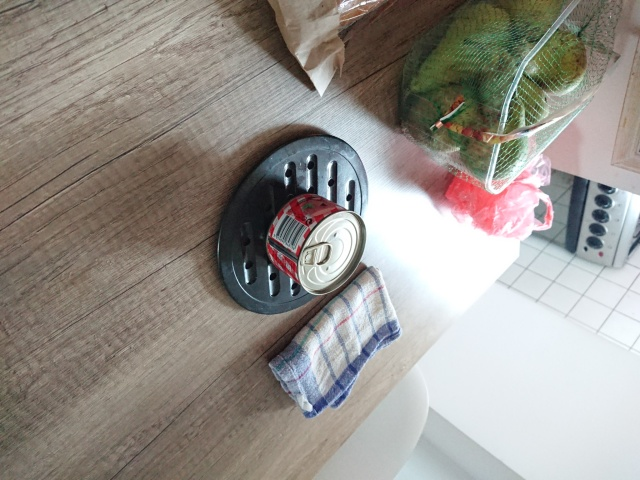Podravka Luncheon Meat 150g: (261, 190, 369, 298)
